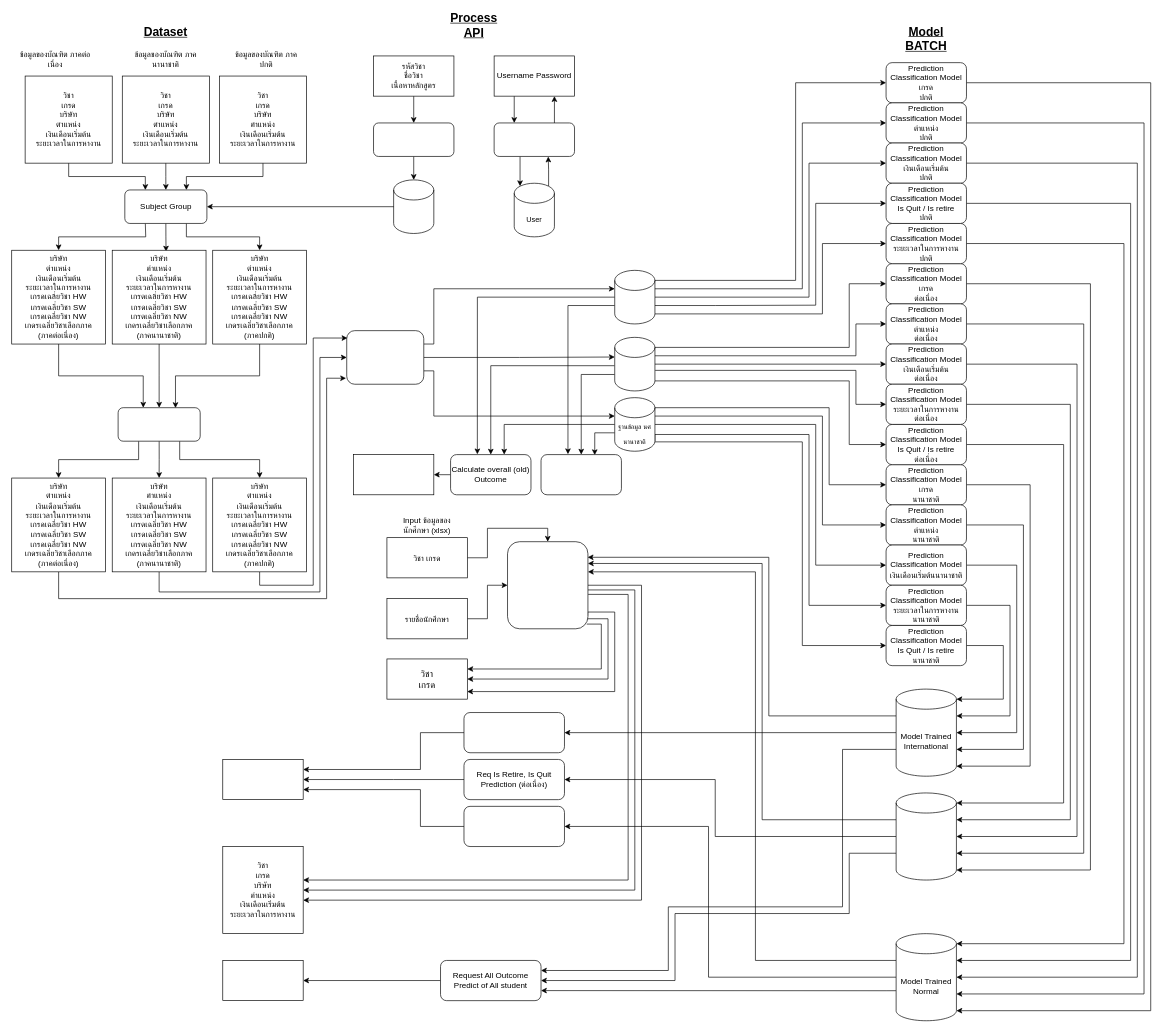
This 1168x1032 diagram has some shape labels left out. The centre of each missing label's shape, as x and y in pixels:
"Add / Update /Edit to Database" belongs at point 385,357.
"login" belongs at point 534,139.
"Model Trained Continue" belongs at point 925,836.
"Null Recorde Hadler" belongs at point 158,424.
"Req All Prediction Handler" belongs at point 547,585.
"Req Is Retire, Is Quit Prediction (นานาชาติ)" belongs at point 513,732.
"Req Is Retire, Is Quit Prediction (ปกติ)" belongs at point 513,826.
"Req Student InClass" belongs at point 580,474.
"Subject Add" belongs at point 413,139.
"ข้อมูลหลักสูตร" belongs at point 413,206.
"ฐานข้อมูล นศ ต่อเนื่อง" belongs at point 634,364.
"ฐานข้อมูล นศ ปกติ" belongs at point 634,297.
"บริษัท ตำแหน่ง เงินเดือน" belongs at point 393,474.
"ลาออก เรียนไม่จบ" belongs at point 262,779.
"เกรด ตำแหน่ง เงินเดือนเริ่มต้น" belongs at point 262,980.
